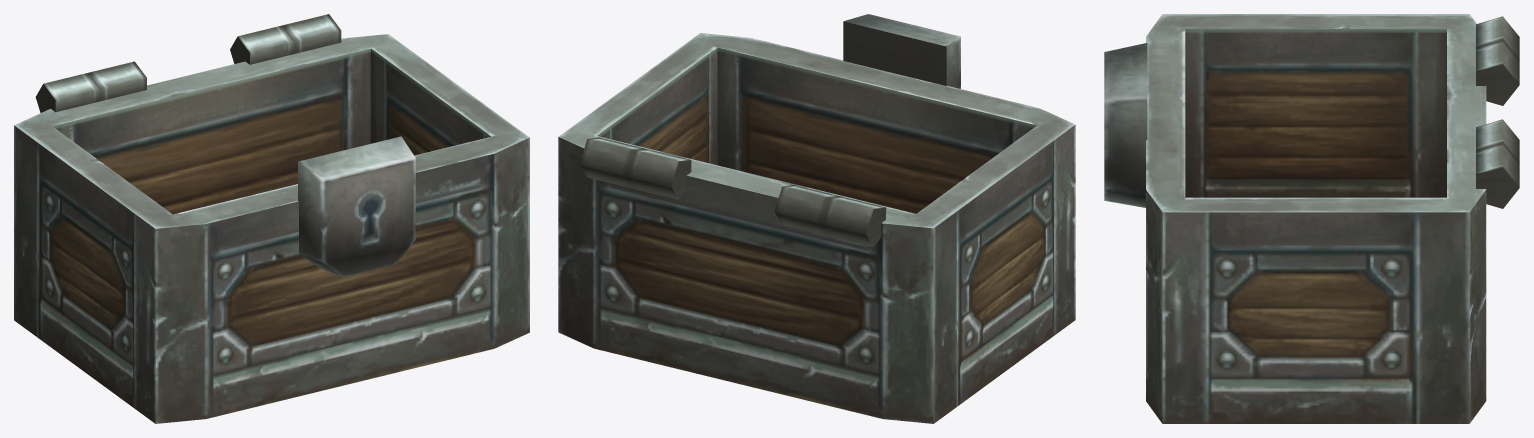
The model's file is Treasure_Chest_Base_01.FBX.
The picture shows the model from 3 angles, left to right: view 1: azimuth 30°, elevation 25°; view 2: azimuth 150°, elevation 25°; view 3: azimuth 270°, elevation 25°; orthographic projection. The views are drawn at different scales.
Visible parts, largest first — view 1: Treasure_Chest_Base_01; view 2: Treasure_Chest_Base_01; view 3: Treasure_Chest_Base_01.
Part boxes in pixels (bbox=[...]): Treasure_Chest_Base_01: bbox=[14, 14, 529, 423]; Treasure_Chest_Base_01: bbox=[558, 14, 1075, 423]; Treasure_Chest_Base_01: bbox=[1104, 14, 1519, 423].
Bounding box in the file's own units: 88.87 × 78.63 × 53.21.
